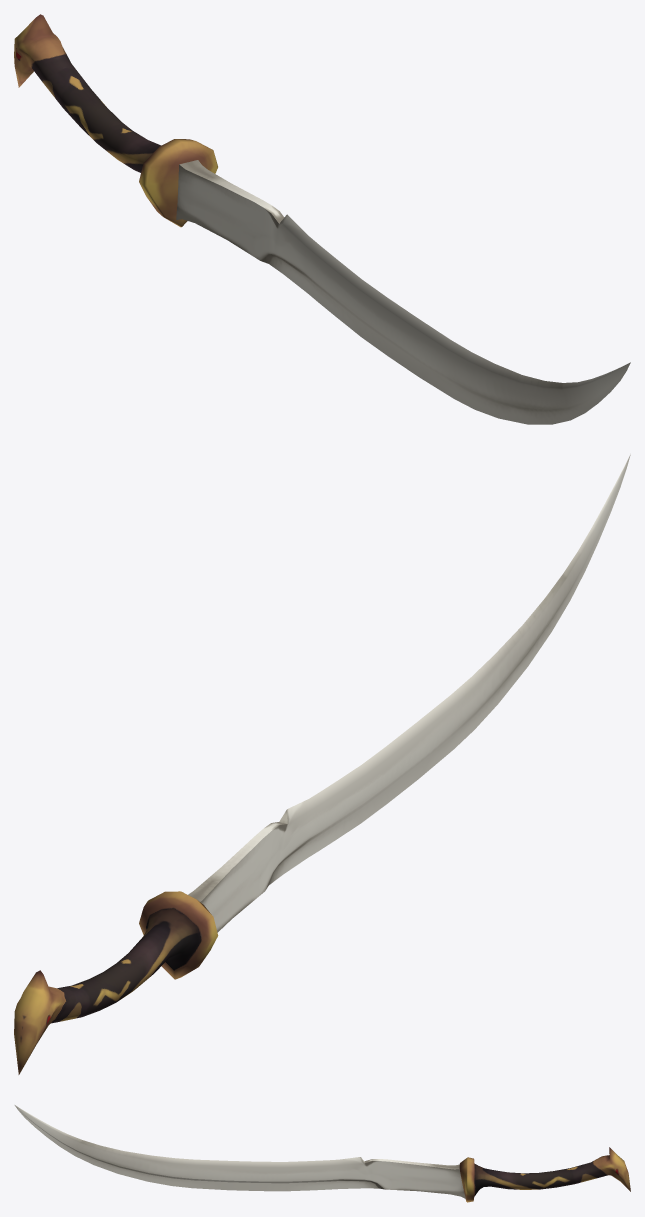
The model's file is Masa_sword.fbx.
3 renders of one model, top to bottom at view 1: azimuth 30°, elevation 25°; view 2: azimuth 150°, elevation 25°; view 3: azimuth 270°, elevation 25°, orthographic. The views are drawn at different scales.
Parts seen in each view (by area): view 1: polySurface2; view 2: polySurface2; view 3: polySurface2.
Part boxes in pixels (<box>): polySurface2: <box>14,14,630,424</box>; polySurface2: <box>14,454,630,1074</box>; polySurface2: <box>14,1105,630,1202</box>.
Bounding box in the file's own units: 0.5998 × 1.49 × 8.49.
